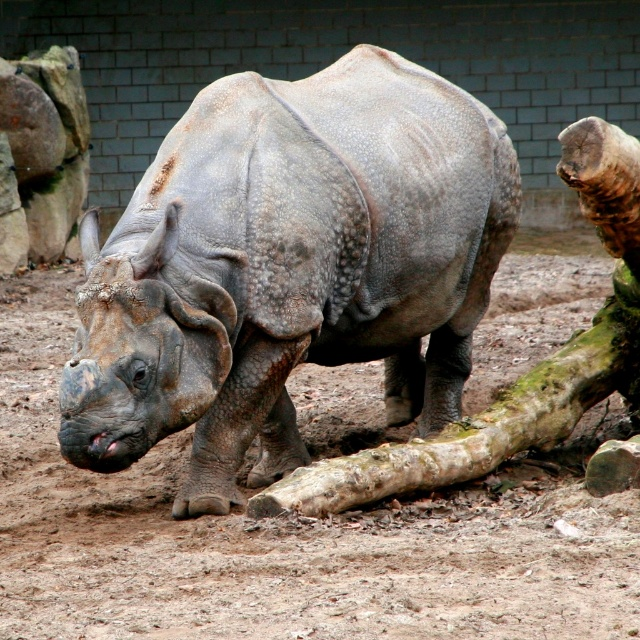Rhinoceros: (48, 41, 529, 528)
